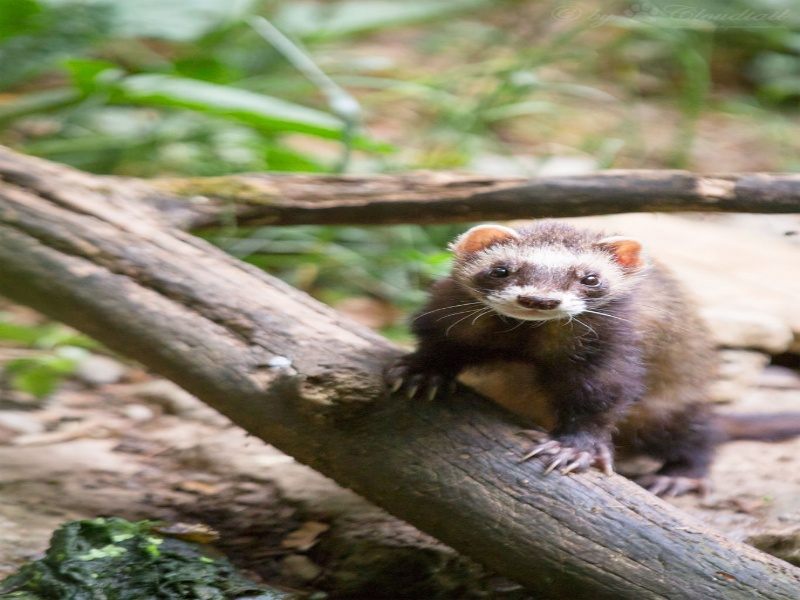minkish: (388, 214, 769, 516)
